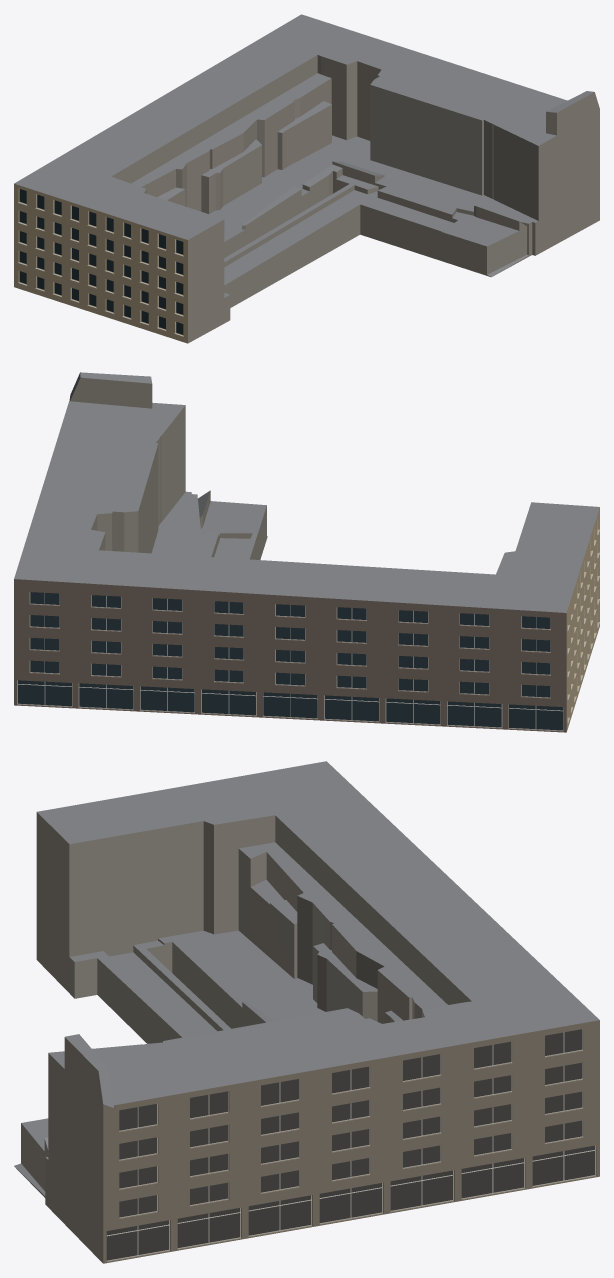
The model's file is recipe-large-kinkerstraat-89-092013.glb.
The picture shows the model from 3 angles, top to bottom: view 1: azimuth 30°, elevation 25°; view 2: azimuth 150°, elevation 25°; view 3: azimuth 270°, elevation 25°; orthographic projection. The views are drawn at different scales.
Parts seen in each view (by area): view 1: kinkerstraat-89-092013; view 2: kinkerstraat-89-092013; view 3: kinkerstraat-89-092013.
Part boxes in pixels (x1,y1,x2,y2): kinkerstraat-89-092013: (14, 14, 599, 343); kinkerstraat-89-092013: (14, 372, 599, 732); kinkerstraat-89-092013: (14, 761, 599, 1263).
Bounding box in the file's own units: 79.92 × 19.75 × 55.84.
